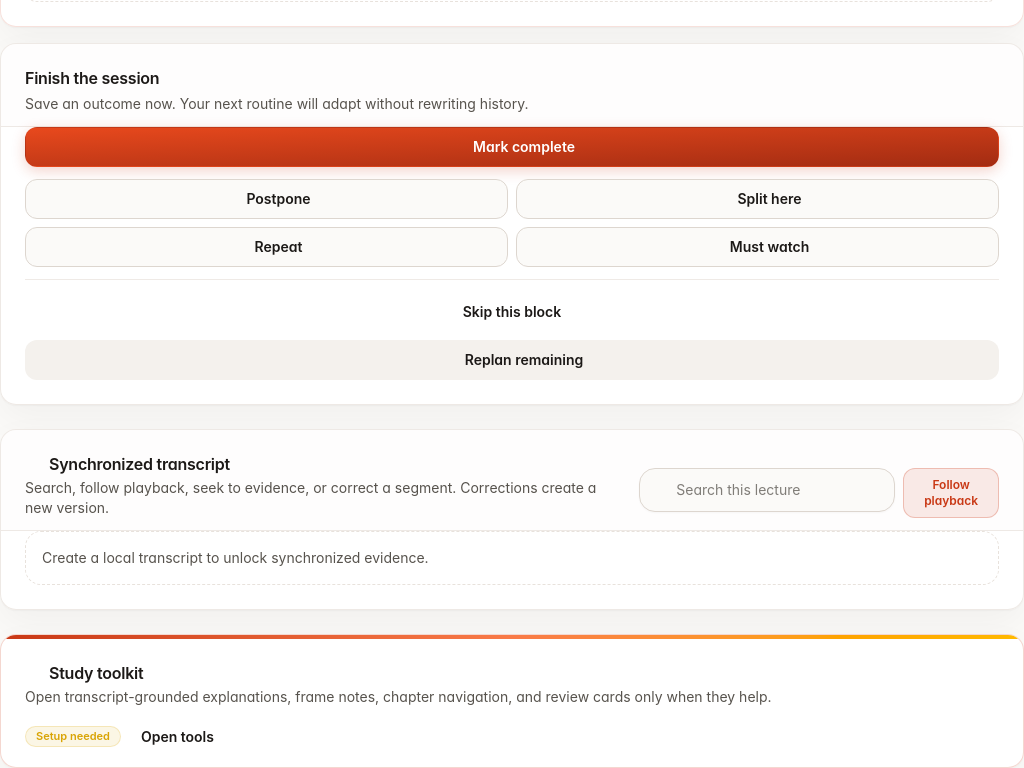
it: PlayerRoute › shows engine setup before allowing transcription when the sidecar is unavailable
(page scrolled)
Click the button "Open tools": (189, 737) x1=129 y1=719 x2=250 y2=755
(page scrolled)
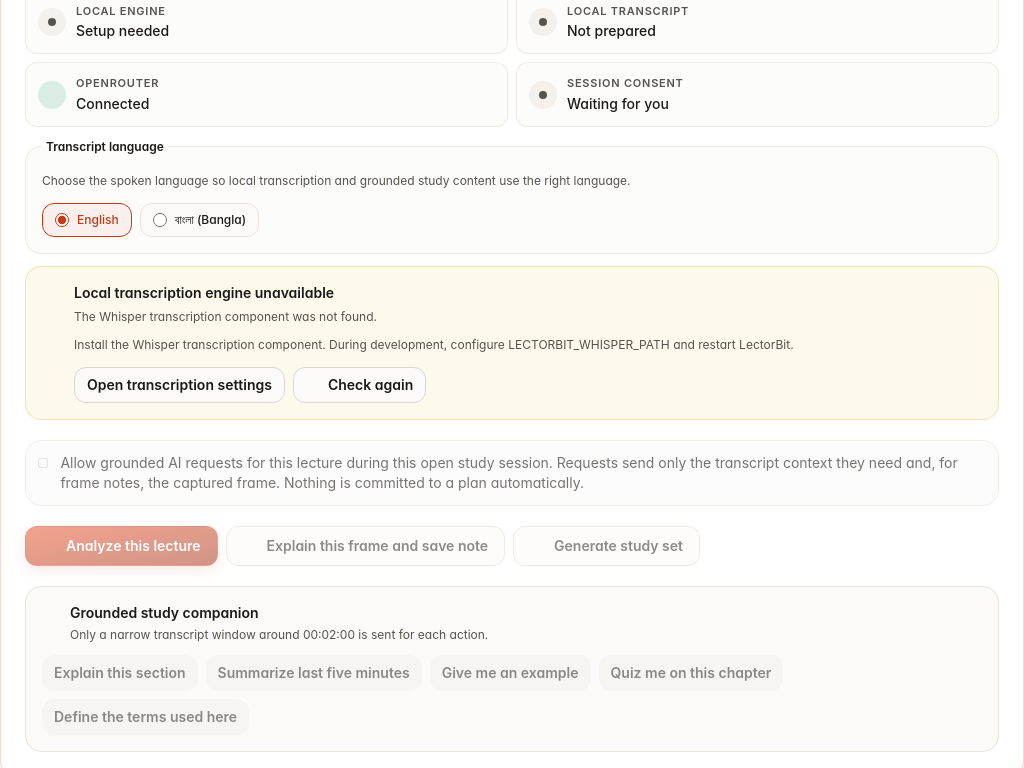
expect the text "Local transcription engine unavailable" is shown: met, box x1=74 y1=284 x2=334 y2=301
